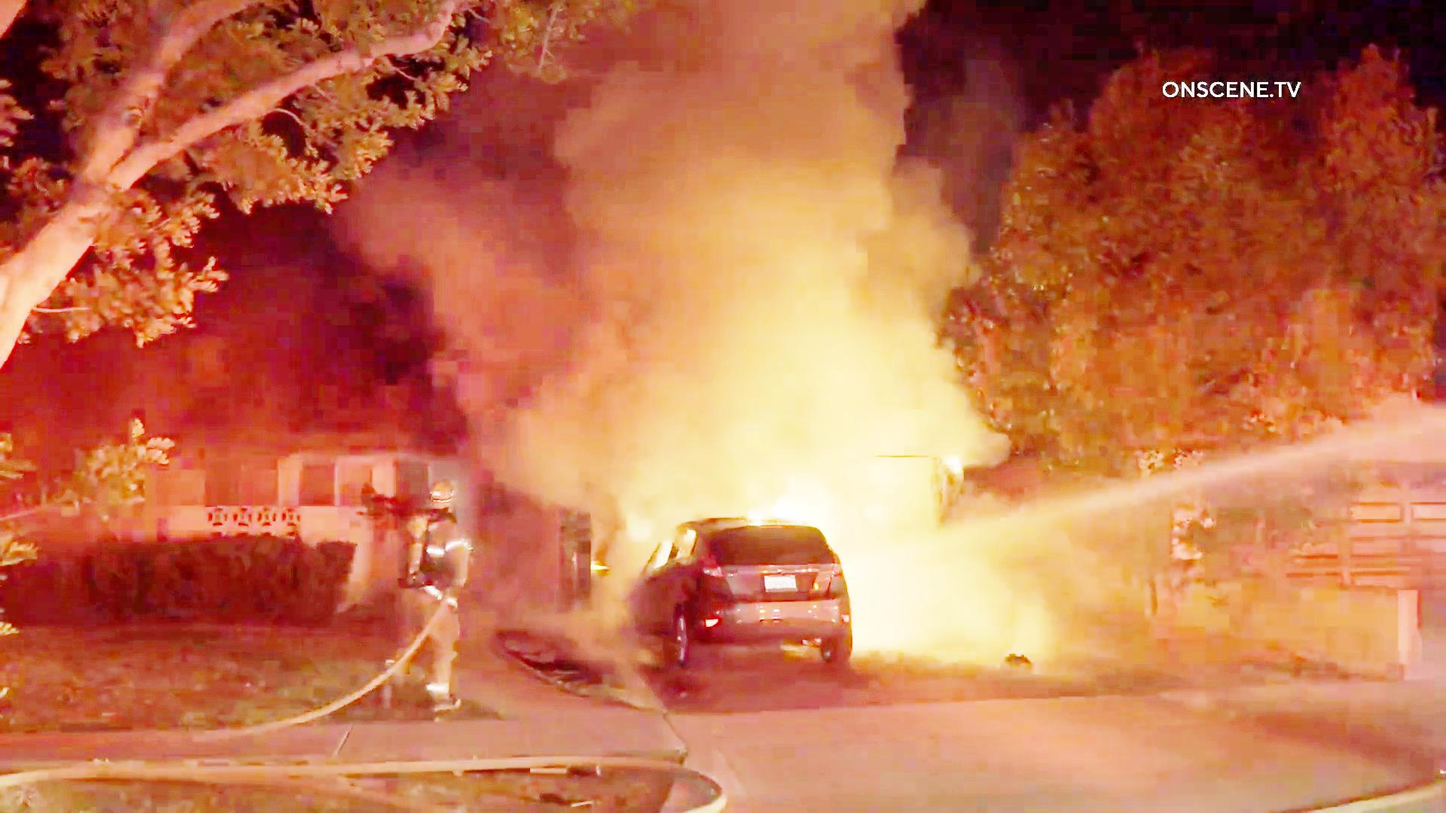fire: (755, 475, 838, 544)
smoke: (418, 140, 909, 440), (599, 8, 959, 150), (885, 567, 1054, 669)
